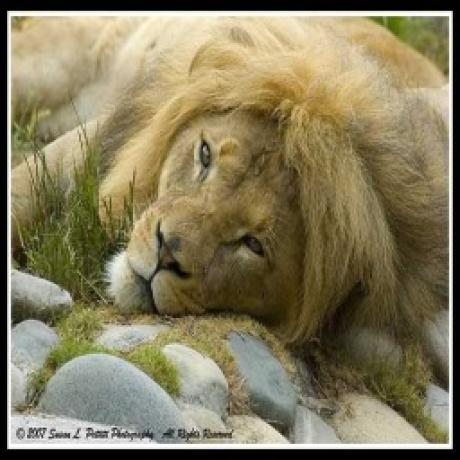Lion: (13, 12, 452, 344)
